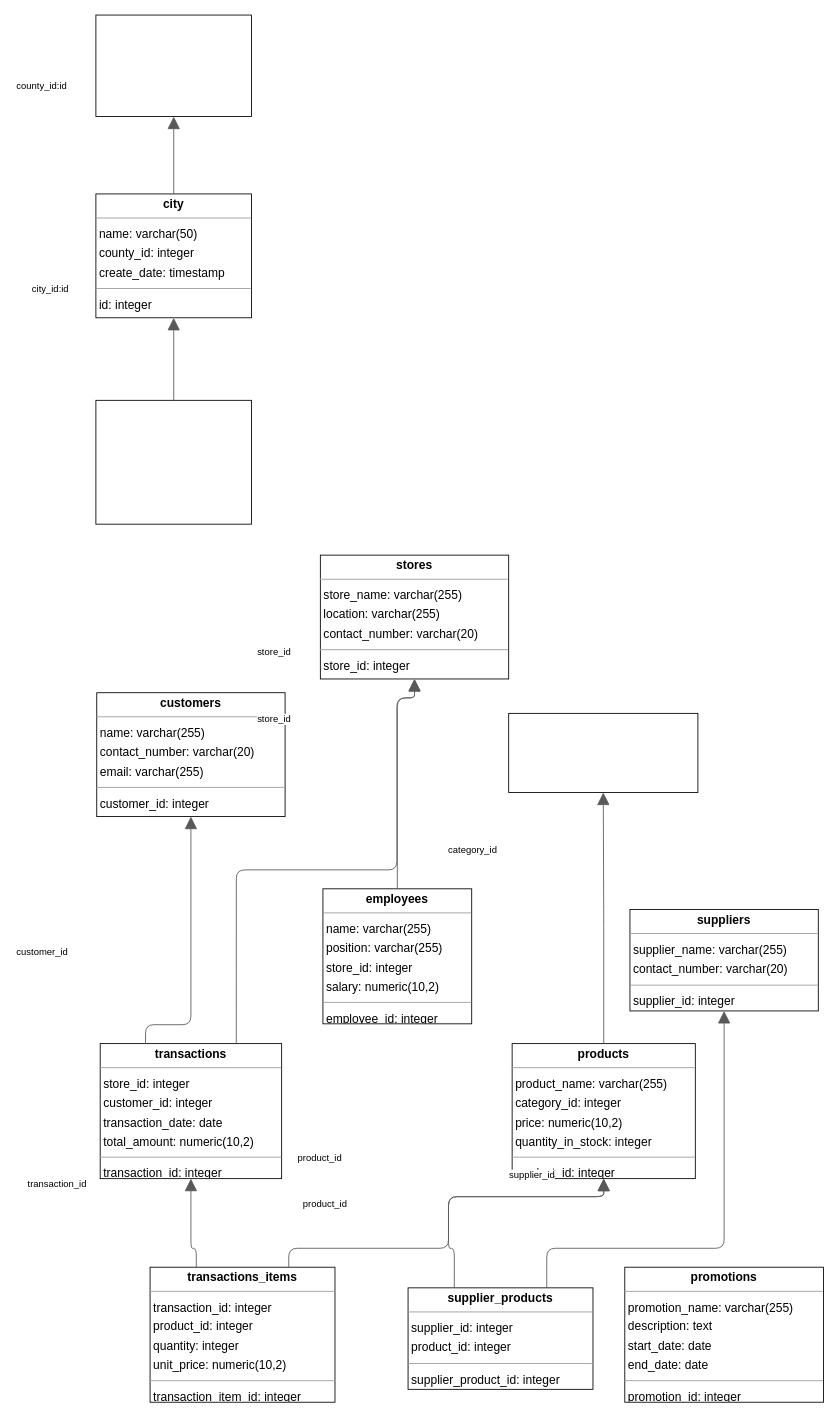
This 839x1418 diagram has some shape labels left out. Here are the shapes that lost their labels. From the top down, the centre of each, then its label:
pixel 173 65: country name: varchar(50) create_date: timestamp id: integer
pixel 173 461: address name: varchar(50) city_id: integer create_date: timestamp id: integer
pixel 603 752: categories category_name: varchar(255) category_id: integer
